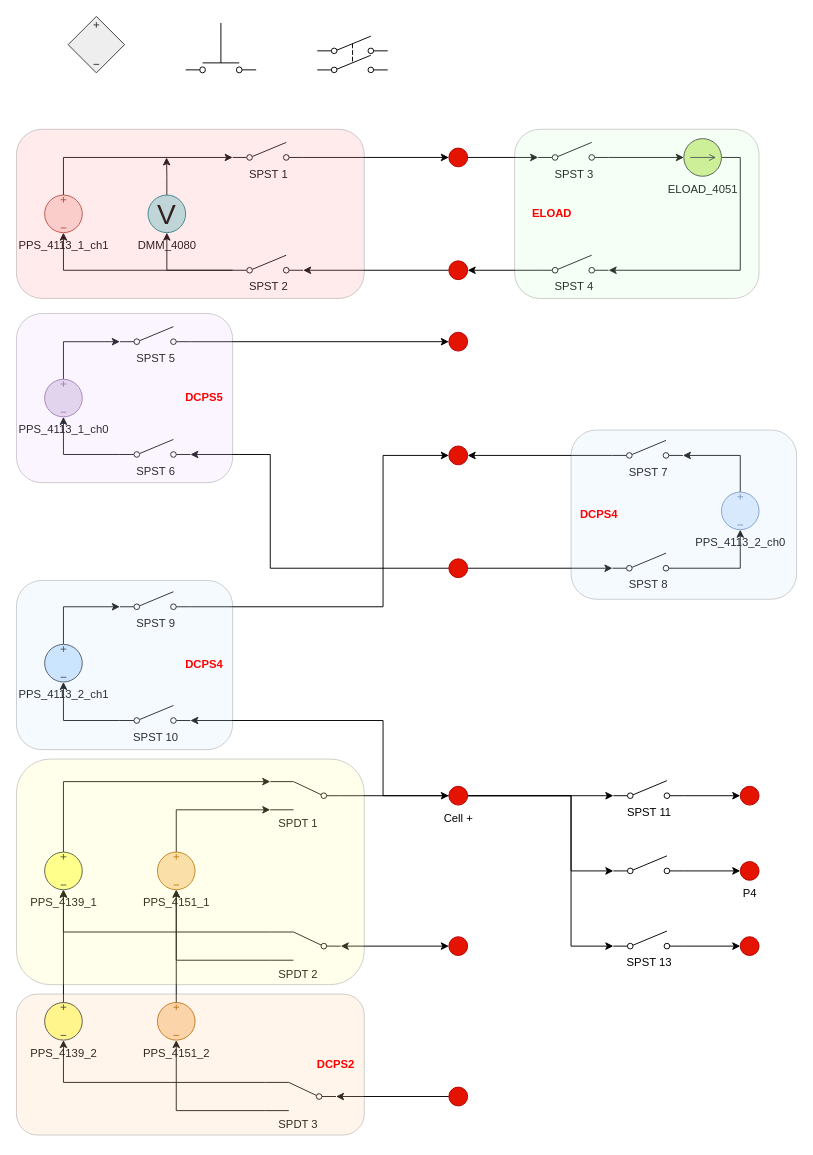
Image size: 813x1155. Some labels were removed from this diagram. The centre of each missing label's shape, as x and y in pixels:
"Cell -" belongs at point (458, 1096).
"Cell Mid" belongs at point (458, 946).
"CH +" belongs at point (458, 455).
"CH -" belongs at point (458, 568).
"DCPS1" belongs at point (190, 871).
"DCPS3" belongs at point (190, 213).
"DPST option" belongs at point (352, 54).
"P109" belongs at point (749, 795).
"P5" belongs at point (749, 946).
"R +" belongs at point (458, 157).
"R -" belongs at point (458, 270).
"Relay Power Supply" belongs at point (96, 44).
"RELAY_2567" belongs at point (220, 47).
"SPST 12" belongs at point (648, 865).
"TH" belongs at point (458, 341).
